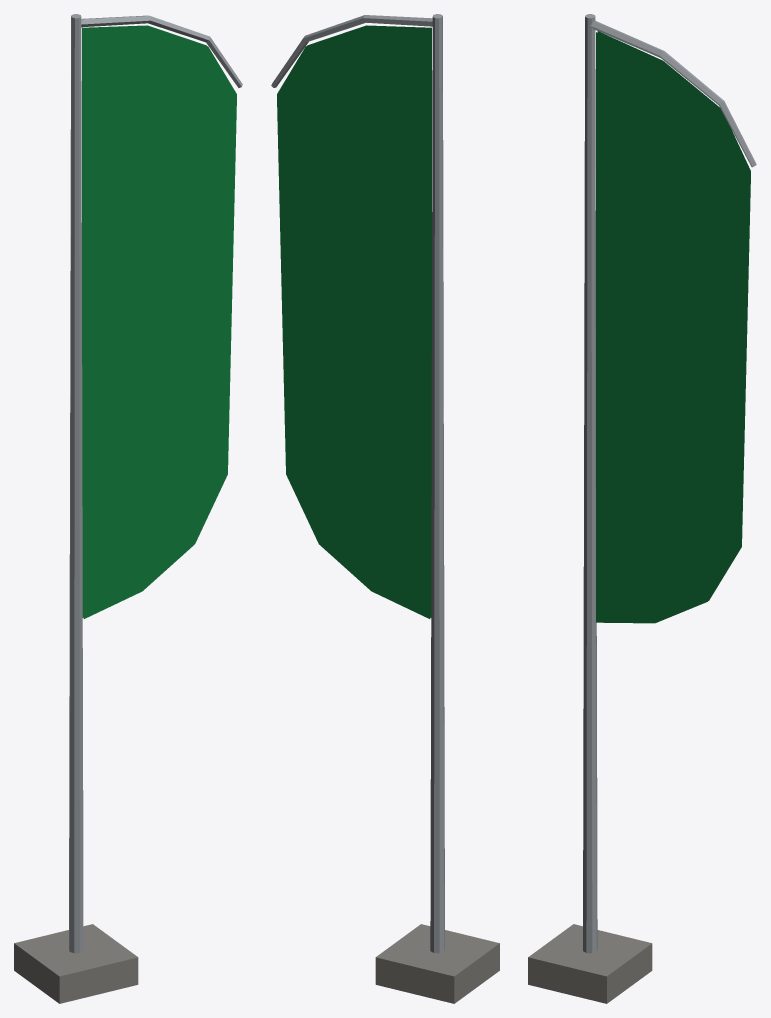
File: bannerGreen.glb
3 renders of one model, left to right at view 1: azimuth 30°, elevation 25°; view 2: azimuth 150°, elevation 25°; view 3: azimuth 330°, elevation 25°, orthographic.
Visible parts, largest first — view 1: banner; view 2: banner; view 3: banner.
Boxes of the visible parts, x1,y1,x2,y2 form: banner: (14,14,242,1003); banner: (271,14,499,1003); banner: (528,14,756,1003).
Size of the model in its own units: 1.57 by 7 by 0.6.
